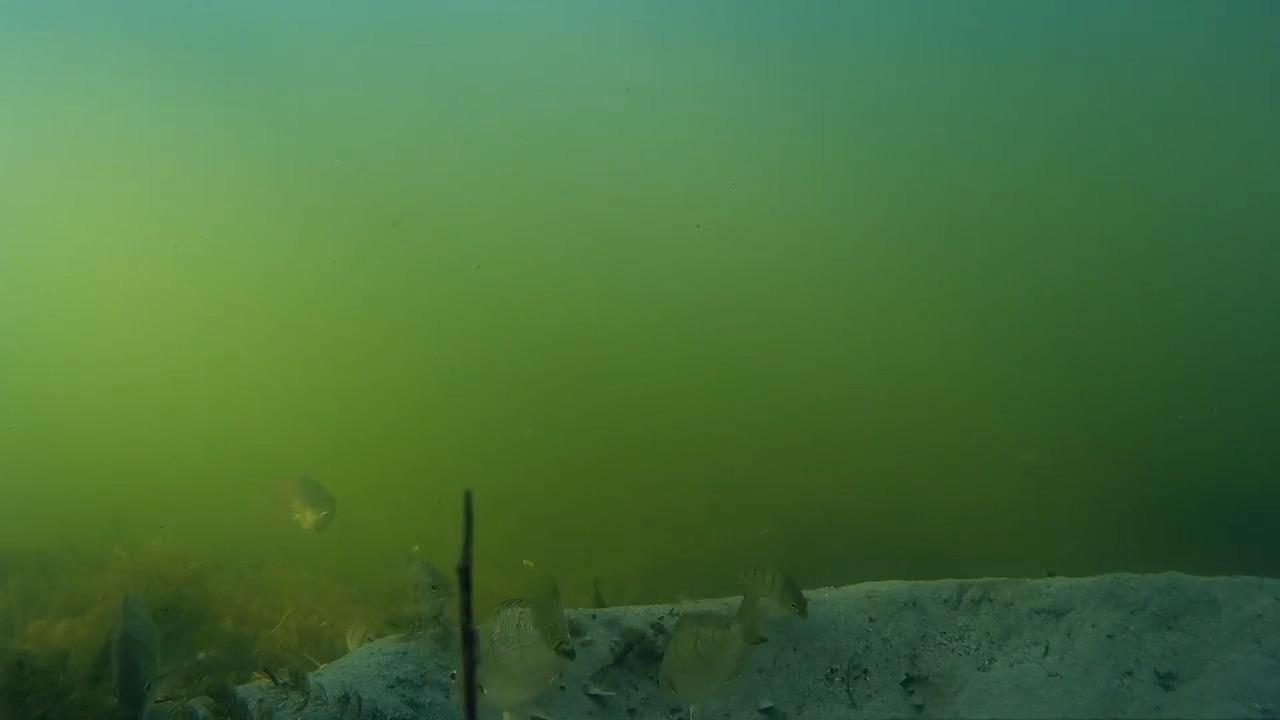Tilapia: (446, 598, 597, 720), (664, 586, 781, 720), (91, 582, 203, 716), (260, 466, 347, 558), (736, 552, 817, 644), (407, 552, 458, 608)
